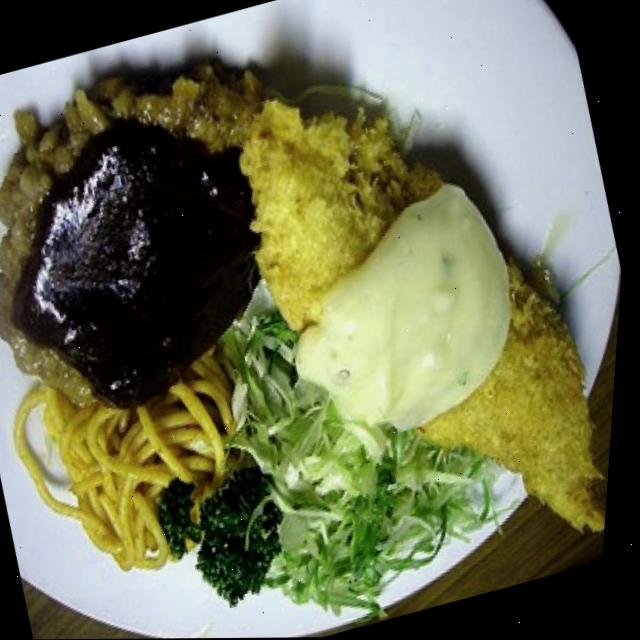炸货点心: (200, 4, 640, 622)
熟制海鲜: (200, 4, 640, 622)
